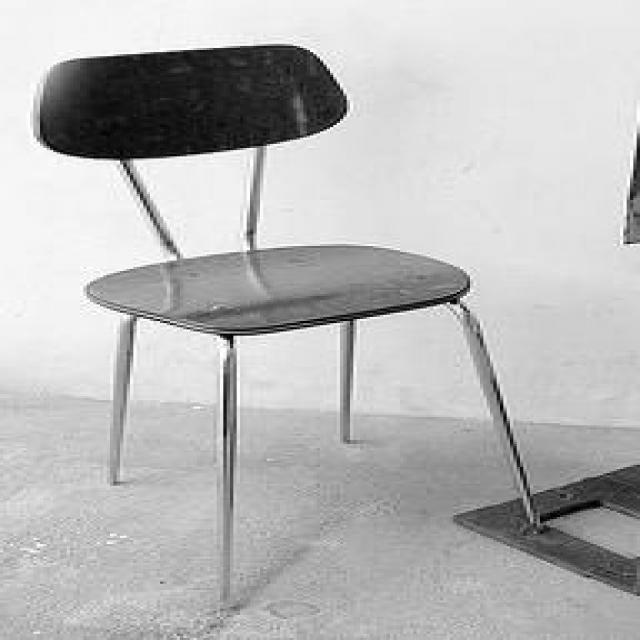chair: (31, 41, 546, 610)
